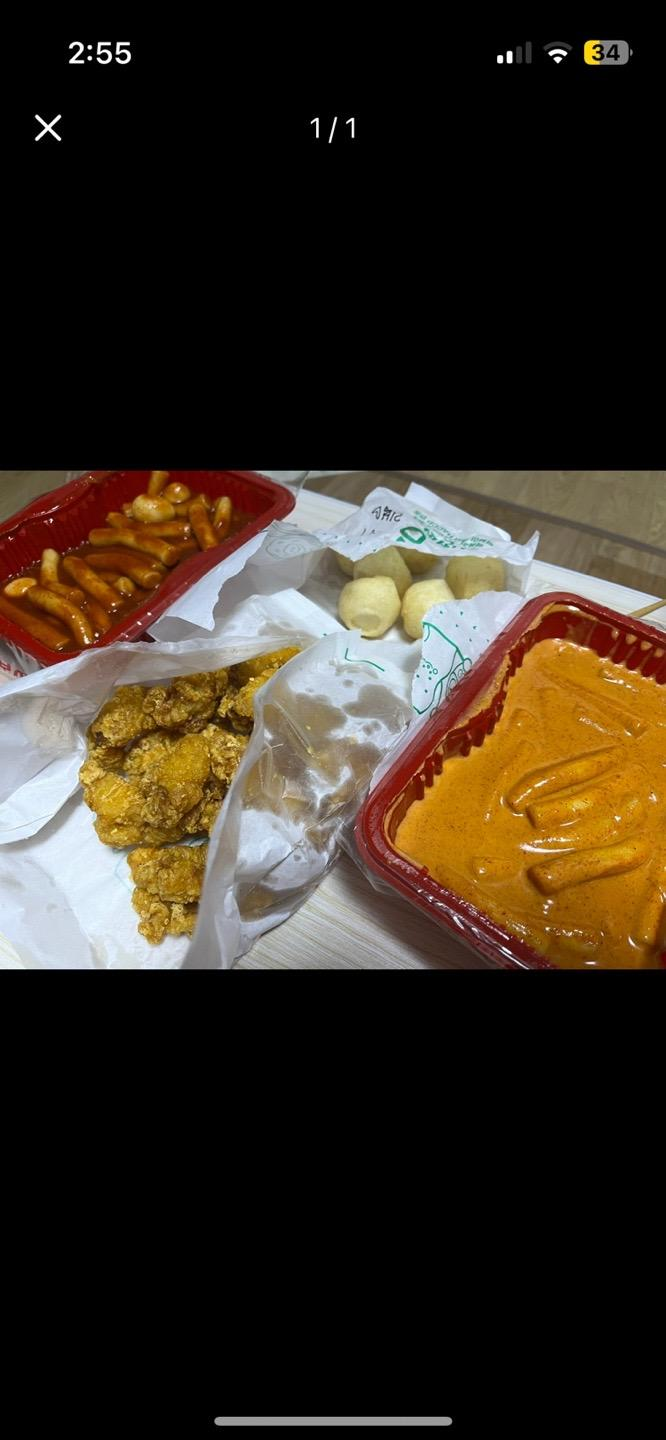Lunch Box: (0, 591, 412, 968), (352, 593, 665, 970), (151, 484, 538, 713), (0, 470, 294, 666)
